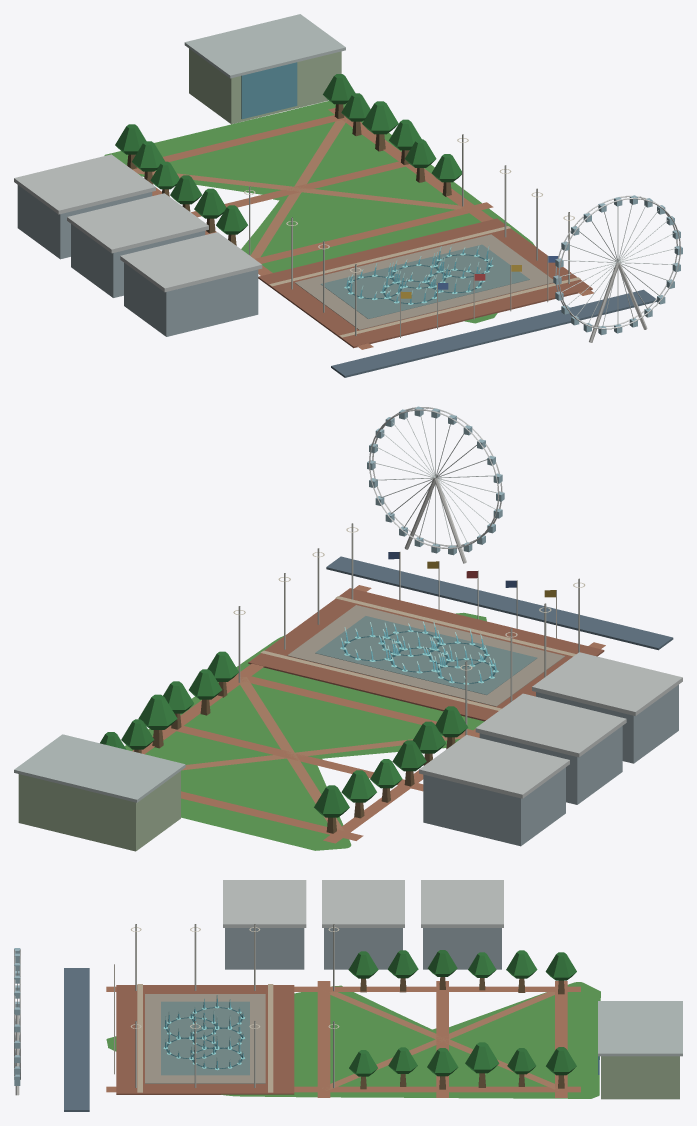
File: centennial.glb
The picture shows the model from 3 angles, top to bottom: view 1: azimuth 30°, elevation 25°; view 2: azimuth 150°, elevation 25°; view 3: azimuth 270°, elevation 25°; orthographic projection. The views are drawn at different scales.
Parts seen in each view (by area): view 1: centennial-landscape, centennial-jets; view 2: centennial-landscape, centennial-jets; view 3: centennial-landscape, centennial-jets.
Part boxes in pixels (x1,y1,x2,y2): centennial-landscape: [14, 14, 682, 377]; centennial-jets: [344, 245, 493, 304]; centennial-landscape: [14, 406, 682, 851]; centennial-jets: [340, 621, 498, 684]; centennial-landscape: [14, 880, 682, 1111]; centennial-jets: [163, 995, 244, 1070].
Size of the model in its own units: 22.15 by 7.16 by 33.82.
